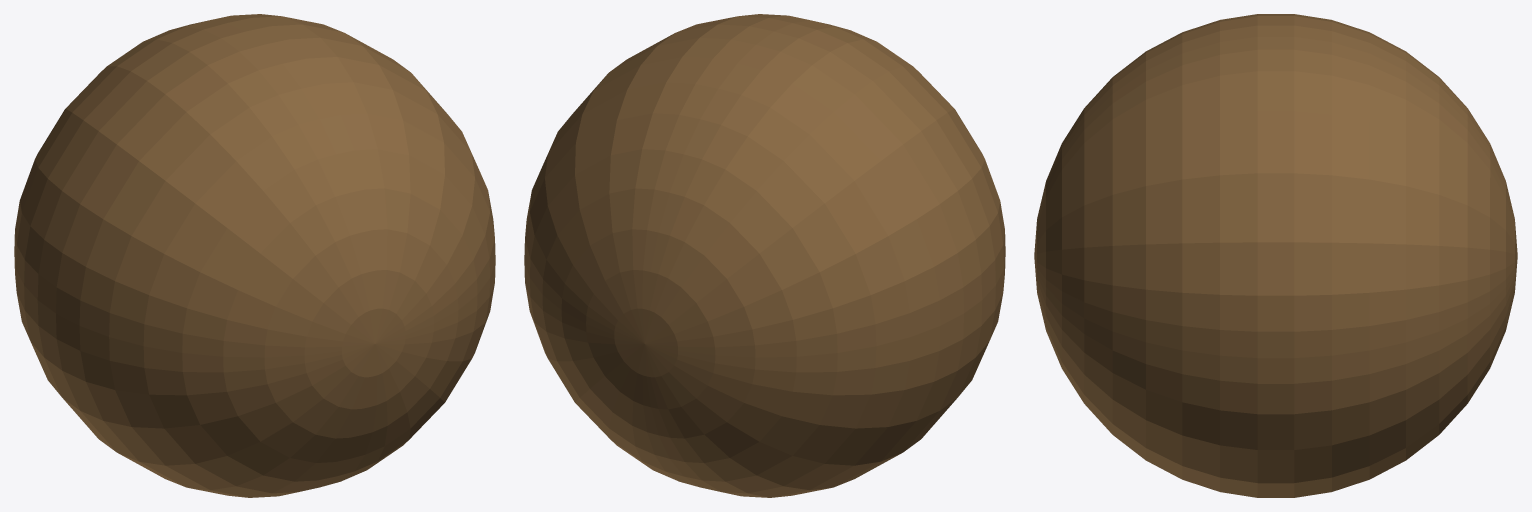
File: LeftEyeSegmentY_joint_visu.dae
The picture shows the model from 3 angles, left to right: view 1: azimuth 30°, elevation 25°; view 2: azimuth 150°, elevation 25°; view 3: azimuth 270°, elevation 25°; orthographic projection.
Visible parts, largest first — view 1: node; view 2: node; view 3: node.
Boxes of the visible parts, x1=… form: node: x1=14, y1=14, x2=495, y2=497; node: x1=524, y1=14, x2=1005, y2=497; node: x1=1034, y1=14, x2=1517, y2=497.
Bounding box in the file's own units: 0.02 × 0.02 × 0.02.
